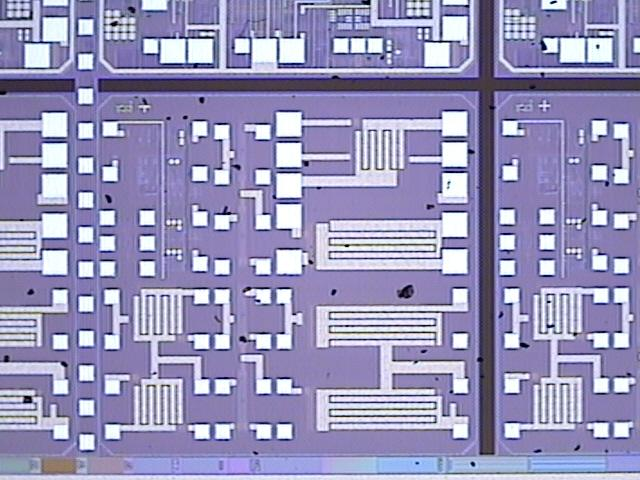PO CONTAMINATION: (1, 1, 639, 473)
